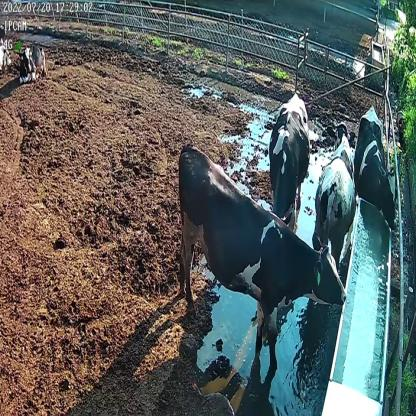cow: (174, 140, 348, 372), (311, 118, 357, 272), (266, 88, 311, 222), (355, 105, 398, 227), (17, 38, 49, 89)
